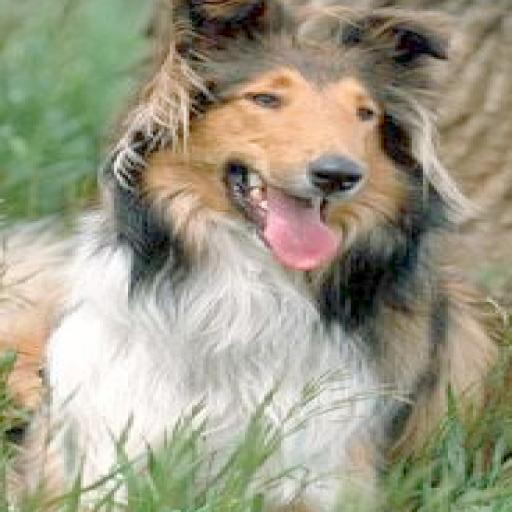dog_face: (164, 0, 440, 260)
